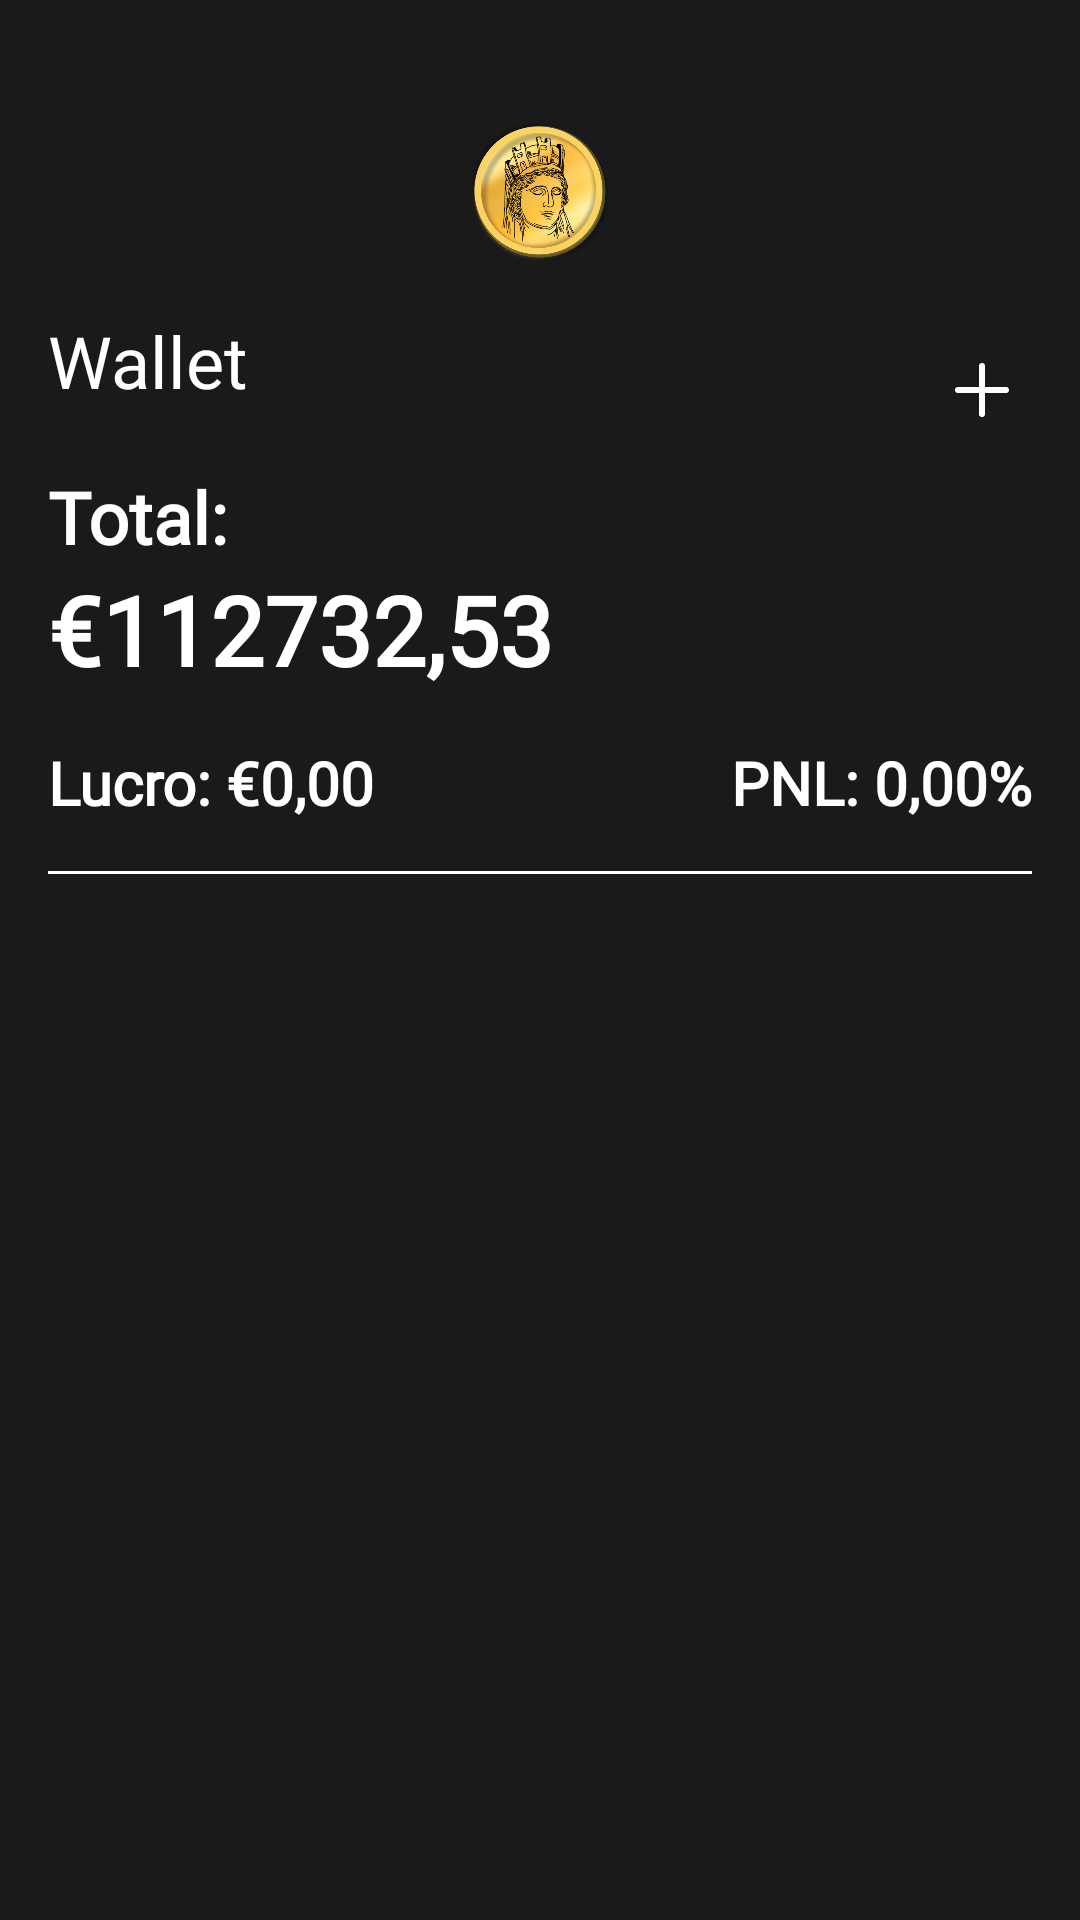

Icons on this 1080 × 1920 Android screen, each with its box as Rect(x1, y1, x2, y2):
add plus: Rect(955, 363, 1009, 417)
